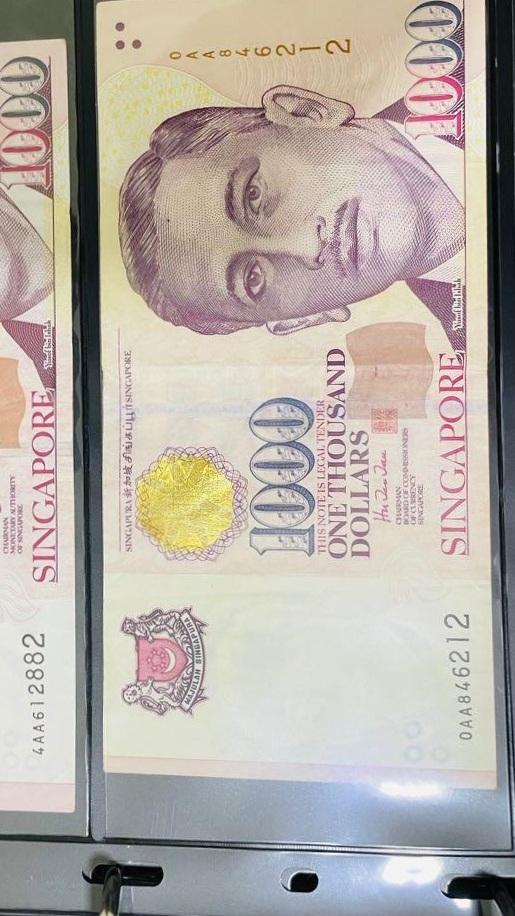1000SingaporeDollar: (107, 0, 485, 770)
